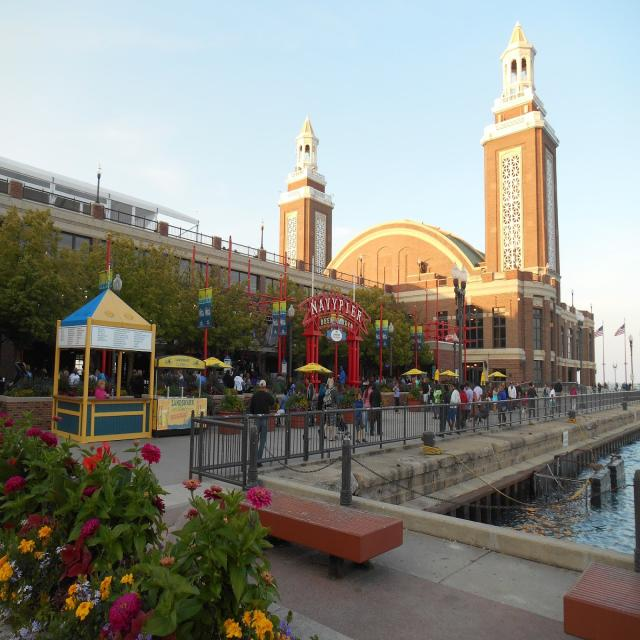body: (249, 378, 275, 468), (318, 378, 341, 442), (434, 384, 451, 437), (352, 388, 368, 444), (368, 382, 384, 437), (446, 382, 461, 436), (458, 381, 473, 431), (20, 362, 34, 408), (317, 382, 328, 439), (362, 382, 374, 434), (305, 376, 316, 427), (36, 364, 49, 406), (278, 389, 290, 428), (526, 382, 538, 420), (459, 384, 469, 429), (473, 380, 483, 425), (497, 385, 507, 428), (552, 378, 564, 413), (431, 383, 442, 420), (188, 368, 198, 404), (196, 370, 208, 399), (94, 379, 110, 400), (134, 369, 146, 395), (174, 369, 185, 397), (337, 364, 347, 393), (233, 370, 244, 396), (392, 380, 400, 414), (68, 367, 80, 389), (59, 370, 70, 394), (486, 380, 494, 413), (508, 381, 516, 414), (129, 369, 138, 398), (548, 384, 556, 416), (241, 372, 252, 394), (570, 382, 578, 412), (541, 382, 550, 408), (222, 368, 233, 389), (492, 385, 500, 413), (287, 375, 296, 397), (422, 377, 429, 404), (339, 413, 348, 432), (325, 374, 335, 389), (432, 379, 438, 403), (95, 368, 106, 381), (360, 376, 367, 396), (524, 391, 530, 414), (89, 367, 98, 382), (385, 374, 400, 383), (426, 380, 431, 405), (516, 390, 522, 410), (216, 370, 223, 387), (502, 382, 508, 399), (159, 370, 165, 387), (410, 377, 416, 392), (622, 382, 632, 391), (337, 374, 342, 388), (376, 374, 380, 391), (515, 381, 521, 392), (367, 374, 375, 382), (81, 362, 85, 378), (414, 376, 419, 388), (597, 381, 602, 393), (592, 380, 596, 394), (381, 374, 386, 385), (405, 376, 411, 384), (606, 381, 610, 390), (401, 377, 406, 384), (358, 373, 362, 381), (419, 375, 423, 383), (408, 374, 412, 381), (426, 375, 430, 382), (196, 372, 200, 378), (240, 372, 244, 378), (531, 384, 535, 389), (616, 382, 618, 391), (604, 381, 606, 390), (527, 384, 530, 390), (464, 384, 466, 392)
